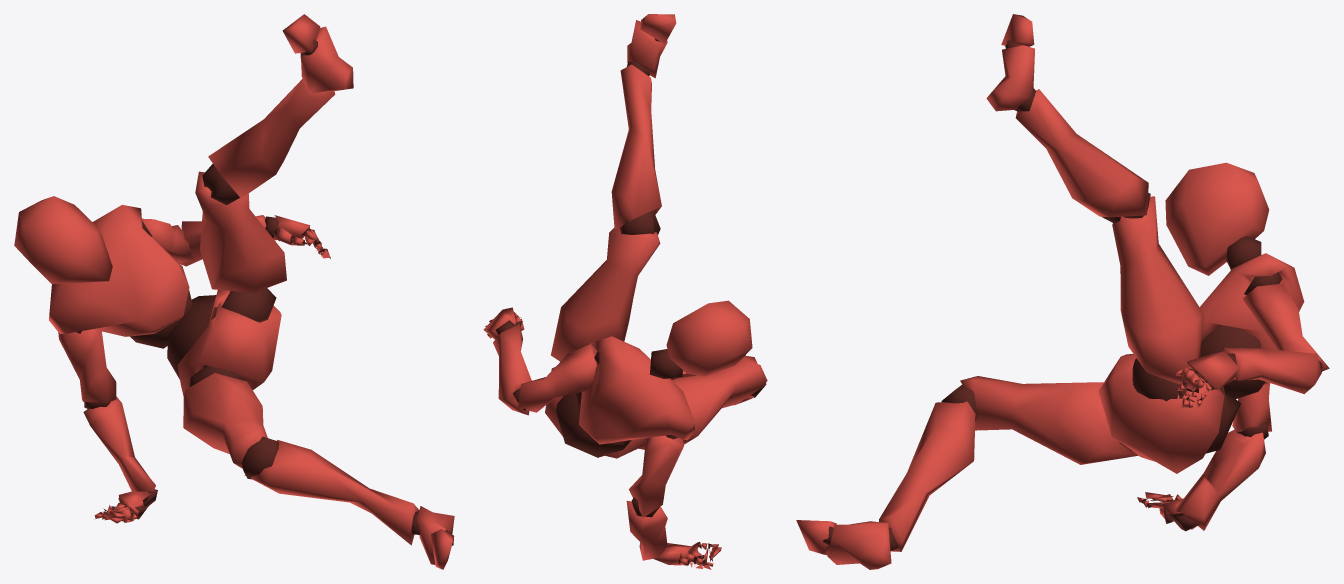
3 renders of one model, left to right at view 1: azimuth 30°, elevation 25°; view 2: azimuth 150°, elevation 25°; view 3: azimuth 270°, elevation 25°, orthographic. The views are drawn at different scales.
Parts seen in each view (by area): view 1: Beta_Surface; view 2: Beta_Surface; view 3: Beta_Surface.
Part boxes in pixels (bbox=[...]): Beta_Surface: bbox=[14, 14, 454, 569]; Beta_Surface: bbox=[483, 14, 767, 569]; Beta_Surface: bbox=[796, 14, 1329, 569].
Size of the model in its own units: 8.74 by 15.12 by 13.18.
